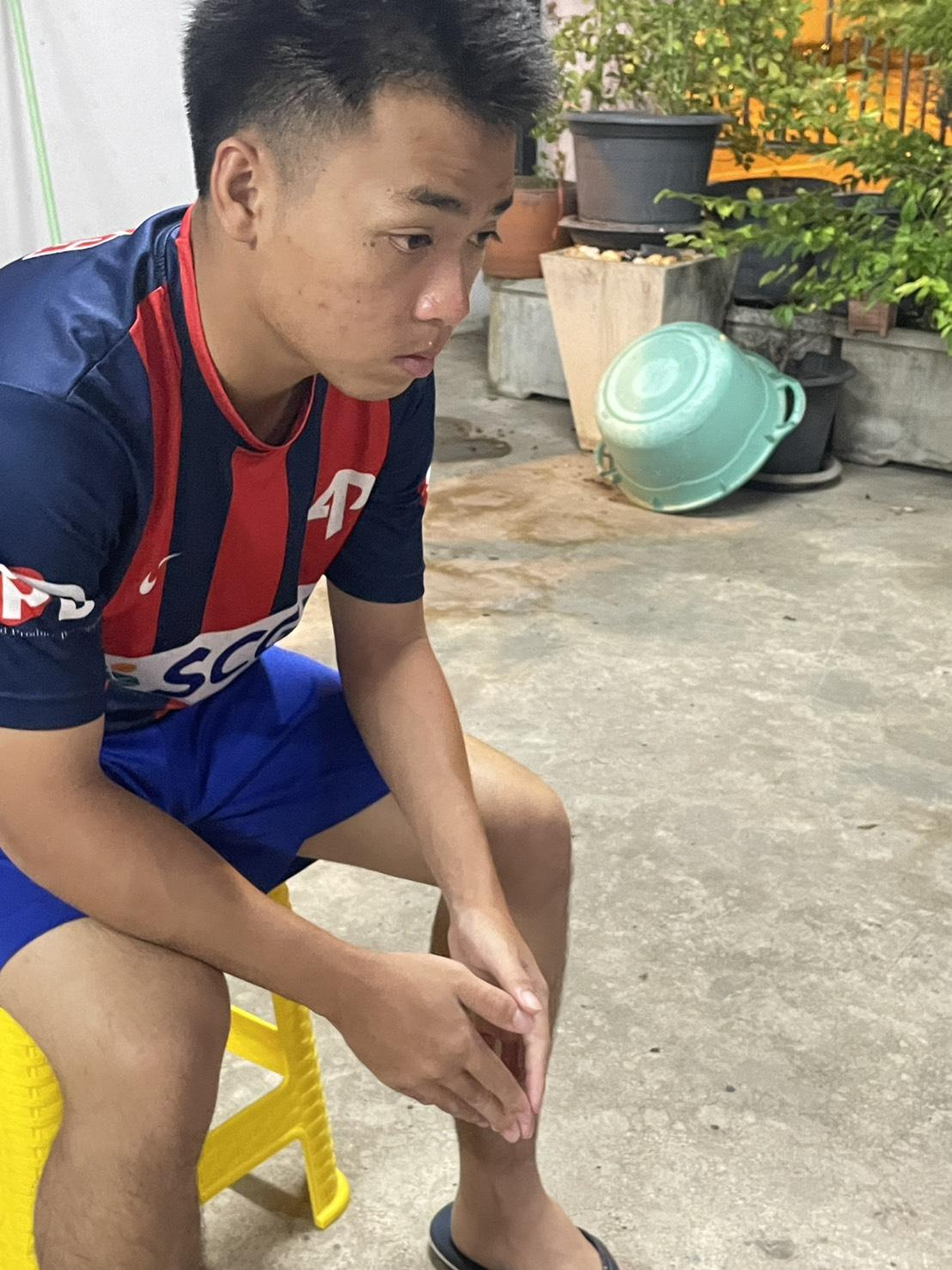BadPosture: (0, 0, 546, 732)
